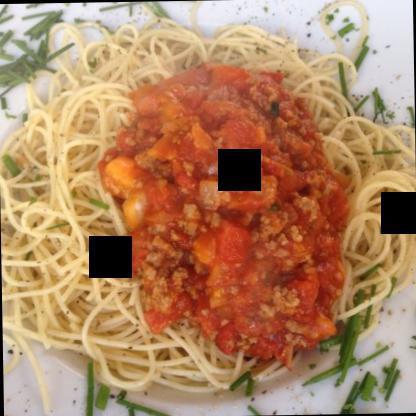pasta: (0, 15, 415, 404)
